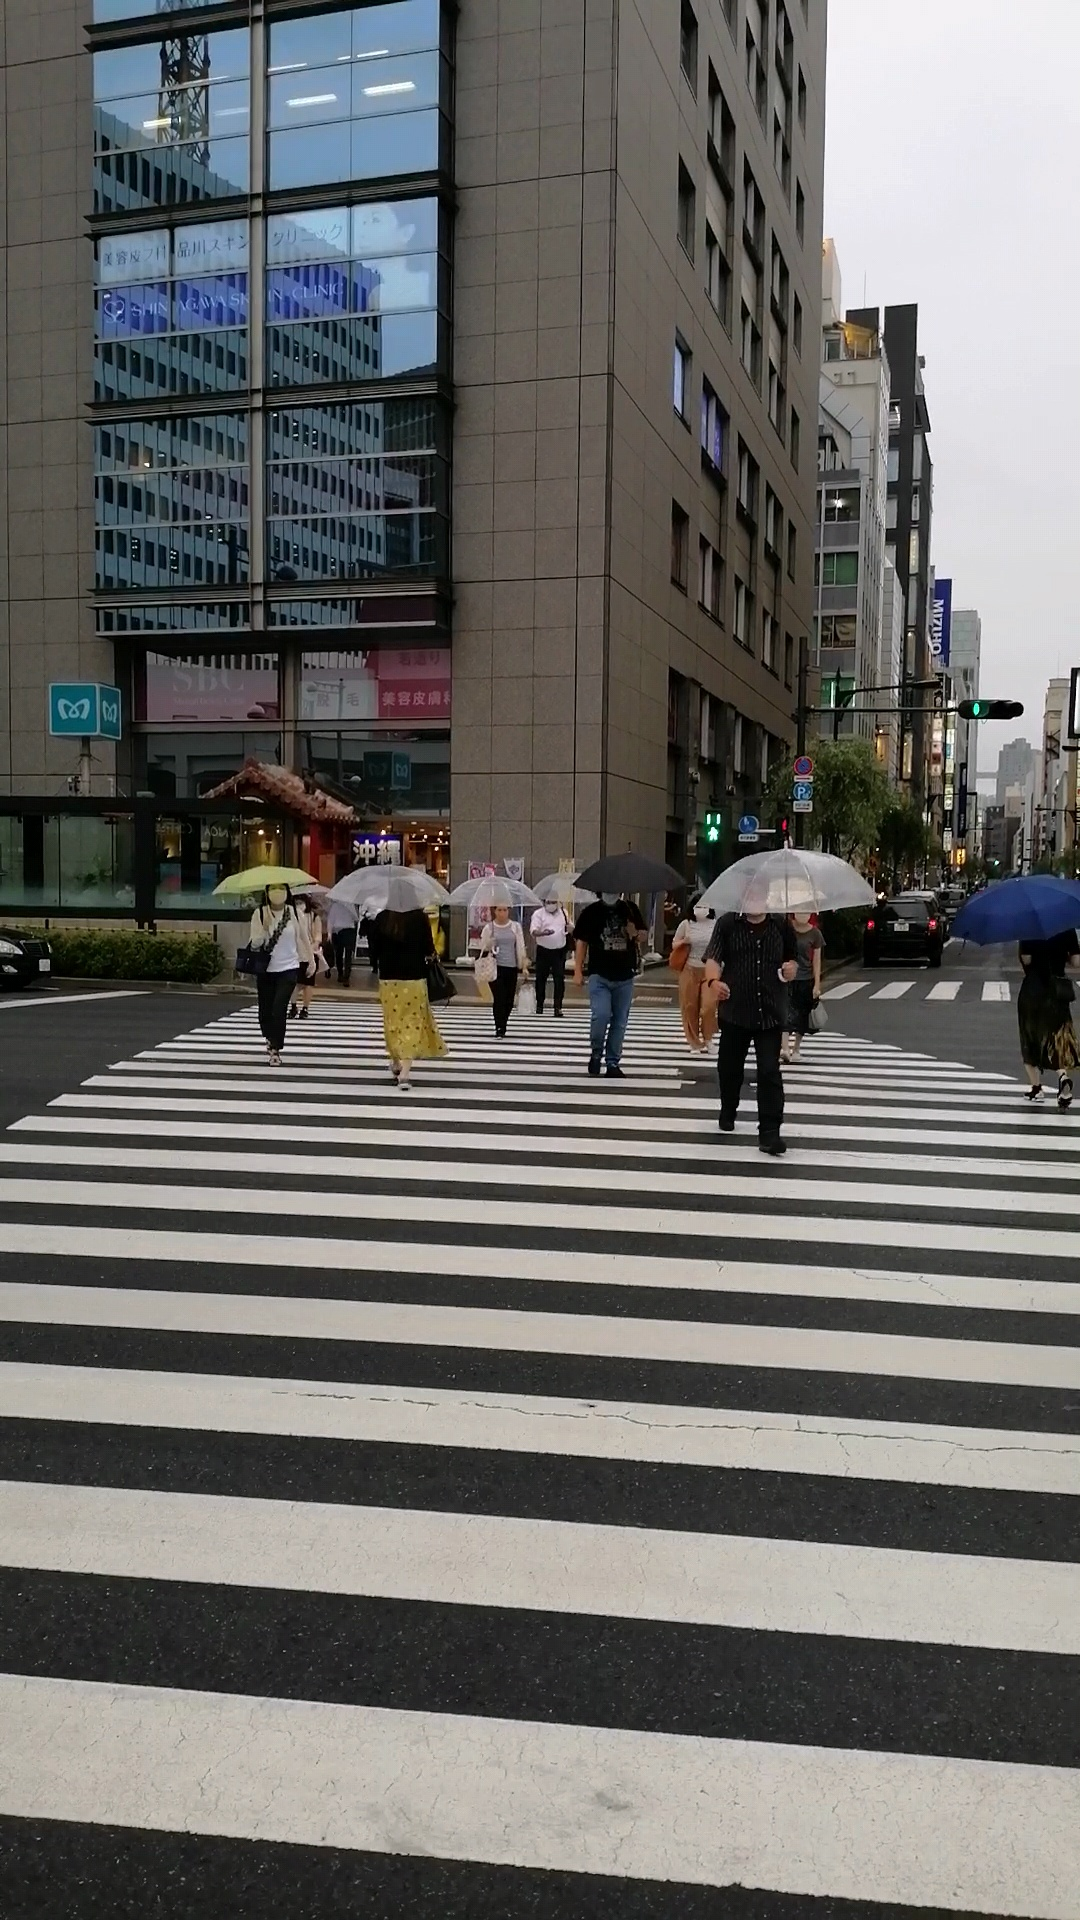green: (703, 808, 723, 844)
